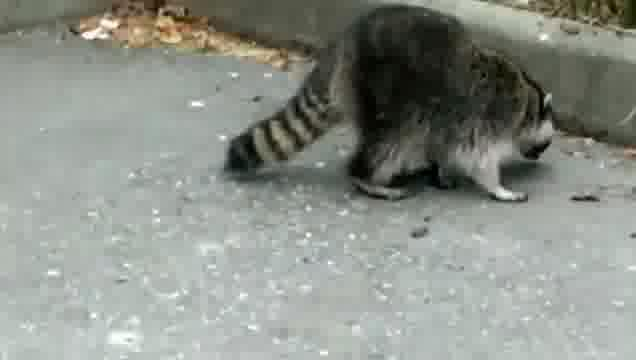raccoon: (226, 4, 555, 203)
